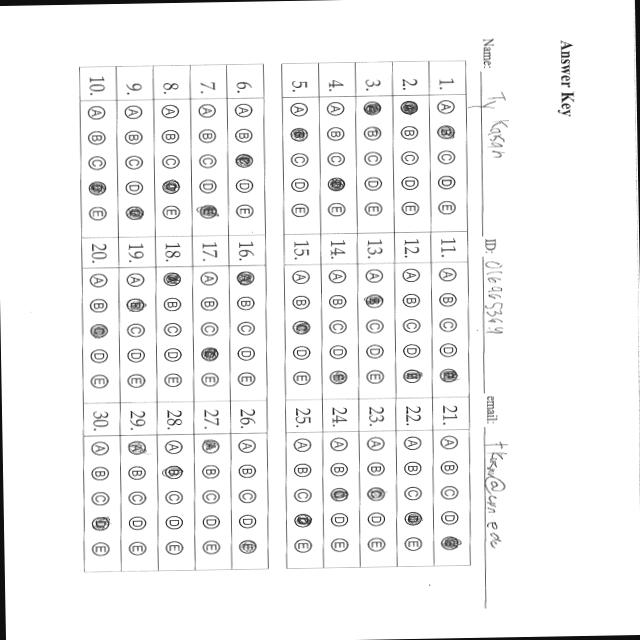EMAIL: (469, 426, 523, 609)
ID: (474, 258, 522, 394)
Name: (470, 70, 507, 238)
Q10_A_Unmarked: (84, 102, 110, 126)
Q10_B_Unmarked: (85, 128, 108, 148)
Q10_C_Unmarked: (84, 153, 108, 174)
Q10_D_Marked: (84, 180, 108, 200)
Q10_E_Unmarked: (84, 206, 110, 228)
Q11_A_Unmarked: (434, 266, 461, 285)
Q11_B_Unmarked: (435, 290, 460, 310)
Q11_C_Unmarked: (436, 316, 461, 336)
Q11_D_Unmarked: (436, 342, 460, 361)
Q11_E_Marked: (438, 366, 460, 388)
Q12_A_Unmarked: (396, 266, 424, 287)
Q12_B_Unmarked: (398, 292, 424, 312)
Q12_C_Unmarked: (398, 316, 424, 336)
Q12_D_Unmarked: (399, 342, 424, 362)
Q12_E_Marked: (400, 366, 424, 387)
Q12_E_Unmarked: (159, 206, 185, 227)
Q13_A_Unmarked: (360, 265, 388, 287)
Q13_B_Marked: (362, 292, 388, 314)
Q13_C_Unmarked: (362, 317, 388, 338)
Q13_D_Unmarked: (362, 344, 390, 364)
Q13_E_Unmarked: (362, 369, 388, 388)
Q14_A_Unmarked: (323, 268, 350, 288)
Q14_B_Unmarked: (325, 292, 351, 314)
Q14_C_Unmarked: (326, 317, 348, 339)
Q14_D_Marked: (327, 344, 352, 364)
Q14_D_Unmarked: (326, 368, 352, 390)
Q15_A_Unmarked: (288, 268, 314, 288)
Q15_B_Unmarked: (289, 292, 315, 314)
Q15_C_Marked: (288, 318, 314, 339)
Q15_D_Unmarked: (290, 344, 314, 366)
Q15_E_Unmarked: (290, 370, 316, 390)
Q16_B_Unmarked: (232, 295, 258, 315)
Q16_C_Unmarked: (232, 319, 260, 342)
Q16_D_Unmarked: (233, 344, 262, 367)
Q16_E_Unmarked: (233, 368, 260, 393)
Q17_A_Unmarked: (196, 270, 220, 288)
Q17_B_Unmarked: (197, 294, 222, 315)
Q17_C_Unmarked: (198, 320, 220, 340)
Q17_D_Marked: (197, 344, 226, 367)
Q17_E_Unmarked: (196, 372, 222, 392)
Q18_A_Marked: (158, 271, 186, 292)
Q18_B_Unmarked: (159, 294, 185, 314)
Q18_C_Unmarked: (158, 320, 186, 342)
Q18_D_Unmarked: (160, 344, 185, 368)
Q18_E_Unmarked: (160, 372, 187, 392)
Q19_A_Unmarked: (122, 270, 150, 292)
Q19_B_Marked: (121, 294, 148, 318)
Q19_C_Unmarked: (123, 322, 149, 343)
Q19_D_Unmarked: (122, 348, 148, 366)
Q19_E_Unmarked: (125, 372, 148, 392)
Q1_A_Unmarked: (432, 98, 458, 118)
Q1_B_Marked: (432, 123, 459, 144)
Q1_C_Unmarked: (432, 147, 459, 168)
Q1_D_Marked: (158, 180, 184, 202)
Q1_D_Unmarked: (433, 171, 459, 193)
Q1_E_Unmarked: (433, 198, 460, 221)
Q20_A_Unmarked: (85, 272, 112, 293)
Q20_B_Unmarked: (83, 296, 110, 317)
Q20_C_Marked: (82, 319, 110, 343)
Q20_D_Unmarked: (84, 347, 111, 366)
Q20_E_Unmarked: (86, 373, 112, 396)
Q21_A_Unmarked: (432, 432, 462, 456)
Q21_B_Unmarked: (434, 458, 462, 479)
Q21_C_Unmarked: (434, 484, 462, 506)
Q21_D_Unmarked: (436, 508, 460, 529)
Q21_E_Marked: (434, 534, 464, 556)
Q22_A_Unmarked: (398, 434, 423, 455)
Q22_B_Unmarked: (398, 458, 423, 479)
Q22_C_Unmarked: (399, 484, 424, 504)
Q22_D_Marked: (398, 508, 426, 530)
Q22_E_Unmarked: (398, 534, 428, 557)
Q23_A_Marked: (232, 268, 260, 292)
Q23_A_Unmarked: (359, 434, 392, 456)
Q23_B_Unmarked: (360, 457, 393, 480)
Q23_C_Marked: (362, 484, 389, 506)
Q23_D_Unmarked: (361, 507, 393, 532)
Q23_E_Unmarked: (361, 536, 392, 558)
Q24_A_Unmarked: (323, 435, 353, 457)
Q24_B_Unmarked: (324, 461, 354, 482)
Q24_C_Marked: (324, 483, 354, 506)
Q24_D_Unmarked: (324, 508, 354, 534)
Q24_E_Unmarked: (324, 534, 354, 560)
Q25_A_Unmarked: (284, 436, 316, 458)
Q25_B_Unmarked: (287, 461, 317, 483)
Q25_C_Unmarked: (288, 483, 318, 508)
Q25_D_Marked: (289, 512, 319, 534)
Q25_E_Unmarked: (286, 538, 320, 560)
Q26_A_Unmarked: (231, 438, 260, 458)
Q26_B_Unmarked: (232, 462, 262, 483)
Q26_C_Unmarked: (232, 485, 262, 508)
Q26_D_Unmarked: (230, 514, 264, 536)
Q26_E_Marked: (233, 536, 266, 563)
Q27_A_Marked: (196, 438, 223, 458)
Q27_B_Unmarked: (195, 464, 222, 484)
Q27_C_Unmarked: (194, 488, 222, 509)
Q27_D_Unmarked: (196, 512, 226, 534)
Q27_E_Unmarked: (196, 538, 224, 561)
Q28_A_Unmarked: (156, 438, 188, 462)
Q28_B_Marked: (160, 463, 186, 485)
Q28_C_Unmarked: (160, 488, 184, 508)
Q28_D_Unmarked: (160, 514, 188, 538)
Q28_E_Unmarked: (160, 540, 189, 562)
Q29_A_Marked: (120, 438, 152, 462)
Q29_B_Unmarked: (121, 462, 150, 484)
Q29_C_Unmarked: (122, 488, 151, 509)
Q29_D_Unmarked: (122, 514, 152, 534)
Q29_E_Unmarked: (122, 540, 152, 562)
Q2_A_Marked: (394, 98, 422, 120)
Q2_B_Unmarked: (394, 121, 419, 142)
Q2_C_Unmarked: (394, 146, 424, 170)
Q2_D_Unmarked: (394, 173, 424, 196)
Q2_E_Unmarked: (396, 198, 424, 221)
Q30_A_Unmarked: (85, 441, 114, 463)
Q30_B_Unmarked: (84, 464, 115, 486)
Q30_C_Unmarked: (84, 490, 114, 510)
Q30_D_Marked: (84, 513, 117, 537)
Q30_E_Unmarked: (86, 541, 115, 561)
Q3_A_Marked: (359, 98, 385, 120)
Q3_B_Unmarked: (360, 124, 384, 146)
Q3_C_Unmarked: (358, 148, 386, 169)
Q3_D_Unmarked: (360, 173, 383, 196)
Q3_E_Unmarked: (362, 200, 384, 220)
Q4_A_Unmarked: (322, 100, 349, 120)
Q4_B_Unmarked: (322, 124, 348, 145)
Q4_C_Unmarked: (322, 150, 350, 171)
Q4_D_Marked: (323, 174, 350, 197)
Q4_E_Unmarked: (324, 202, 350, 222)
Q5_A_Unmarked: (286, 100, 312, 124)
Q5_B_Marked: (288, 125, 312, 146)
Q5_C_Unmarked: (286, 151, 311, 170)
Q5_D_Unmarked: (285, 175, 311, 196)
Q5_E_Unmarked: (285, 200, 314, 224)
Q6_A_Unmarked: (228, 102, 258, 122)
Q6_B_Unmarked: (229, 125, 257, 146)
Q6_C_Marked: (230, 151, 260, 172)
Q6_D_Unmarked: (230, 178, 258, 198)
Q6_E_Unmarked: (231, 201, 257, 223)
Q7_A_Unmarked: (195, 104, 218, 122)
Q7_B_Unmarked: (196, 128, 218, 148)
Q7_C_Unmarked: (195, 152, 220, 172)
Q7_D_Unmarked: (195, 178, 221, 198)
Q7_E_Marked: (194, 203, 222, 225)
Q8_A_Unmarked: (157, 102, 186, 122)
Q8_B_Unmarked: (156, 128, 187, 148)
Q8_C_Unmarked: (157, 154, 184, 174)
Q9_A_Unmarked: (120, 104, 146, 124)
Q9_B_Unmarked: (122, 128, 147, 150)
Q9_C_Unmarked: (122, 155, 147, 175)
Q9_D_Unmarked: (122, 179, 146, 200)
Q9_E_Marked: (121, 204, 148, 228)
